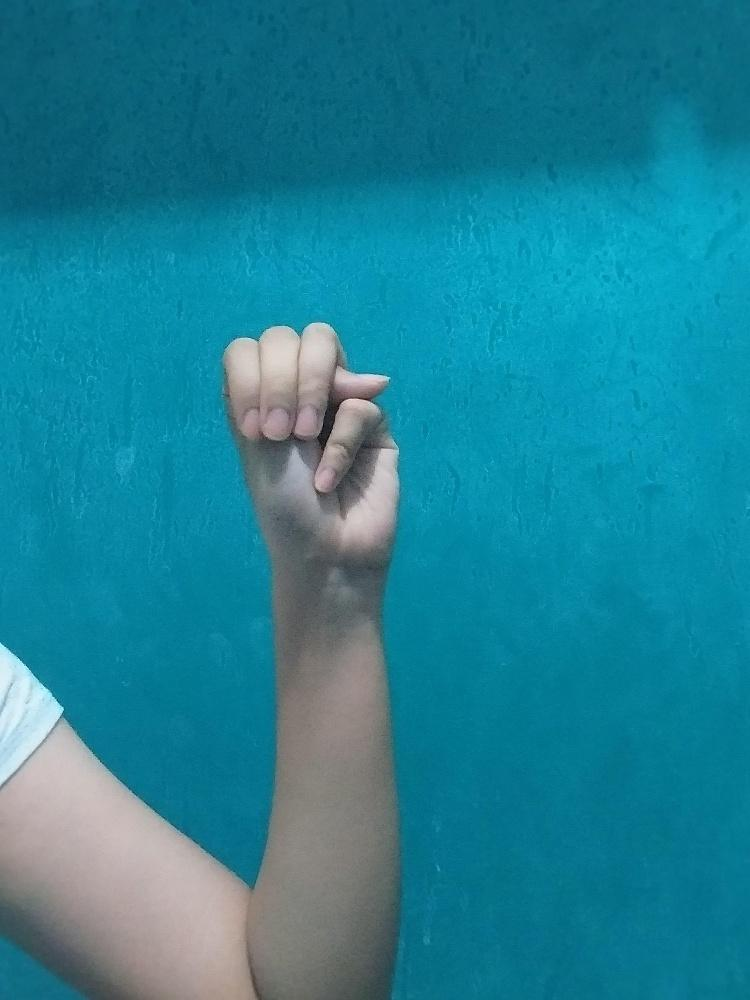m: (222, 320, 401, 573)
